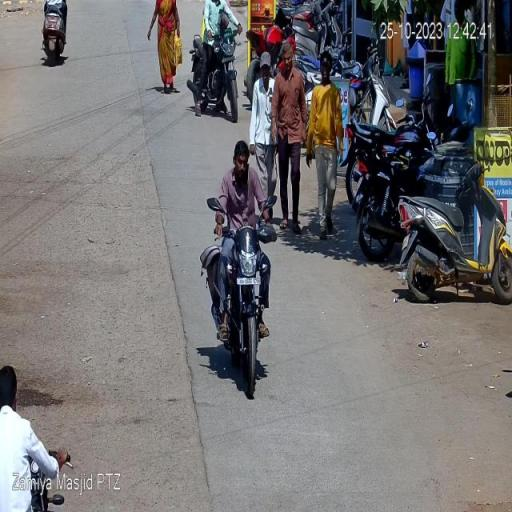using mobile: (245, 155, 251, 190)
